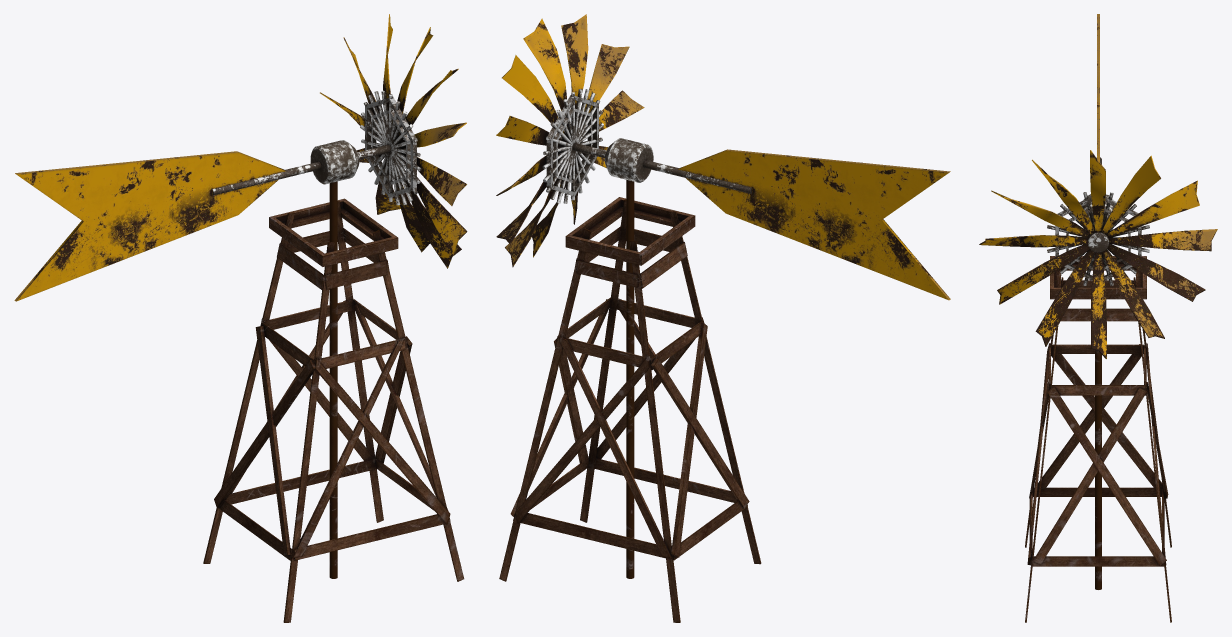
3 views of the same model, side by side, from view 1: azimuth 30°, elevation 25°; view 2: azimuth 150°, elevation 25°; view 3: azimuth 270°, elevation 25° (orthographic). The views are drawn at different scales.
Parts seen in each view (by area): view 1: polySurface96, polySurface126, polySurface121, polySurface102, polySurface97, polySurface93, polySurface95; view 2: polySurface96, polySurface126, polySurface121, polySurface102, polySurface97, polySurface93, polySurface95; view 3: polySurface96, polySurface121, polySurface102, polySurface97, polySurface126, polySurface95.
Boxes of the visible parts, x1,y1,x2,y2 form: polySurface96: (203, 181, 464, 622); polySurface126: (14, 151, 285, 301); polySurface121: (320, 14, 467, 268); polySurface102: (360, 91, 421, 205); polySurface97: (365, 97, 416, 197); polySurface93: (310, 140, 359, 184); polySurface95: (212, 139, 405, 195); polySurface96: (499, 180, 761, 622); polySurface126: (678, 149, 950, 300); polySurface121: (496, 14, 644, 267); polySurface102: (542, 89, 603, 203); polySurface97: (546, 95, 598, 196); polySurface93: (604, 138, 653, 182); polySurface95: (558, 133, 751, 193); polySurface96: (1025, 256, 1171, 622); polySurface121: (979, 150, 1217, 358); polySurface102: (1047, 192, 1149, 285); polySurface97: (1055, 196, 1141, 280); polySurface126: (1097, 14, 1099, 162); polySurface95: (1087, 157, 1109, 252).
Bounding box in the file's own units: 1.66 × 2 × 0.9017.
